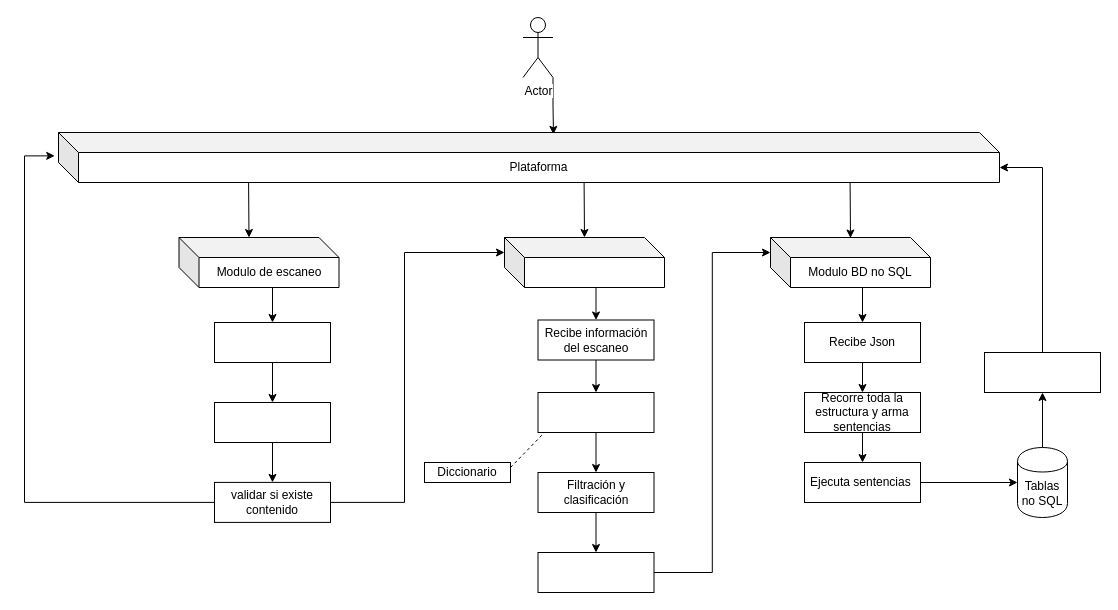
This 1118x610 diagram has some shape labels left out. Here are the shapes that lost their labels. From the top down, the centre of each, then its label:
At (584,262): "Modulo de clasificación".
At (272,342): "Conexión API (cámara diputados)".
At (1042,372): "Enviar Confirmacion".
At (272,422): "Escaneo del url".
At (595,412): "Búsqueda palabras claves".
At (595,572): "Crear Estructura Json".
